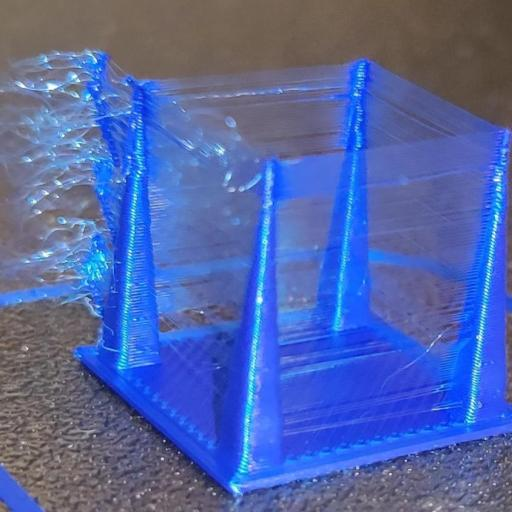stringing: (283, 135, 477, 298), (26, 61, 103, 307), (148, 116, 258, 260)
